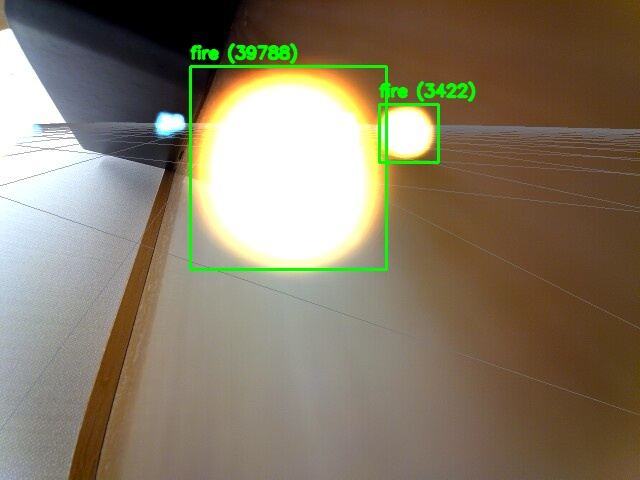fire: (190, 66, 386, 269), (379, 104, 438, 162)
